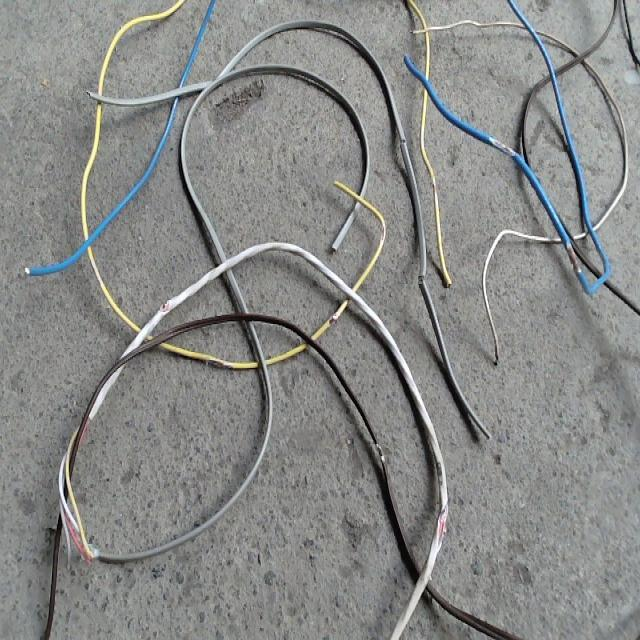-: (487, 135, 517, 157), (566, 240, 581, 273), (436, 502, 447, 546), (158, 297, 171, 315), (374, 443, 385, 461), (327, 312, 338, 324)
